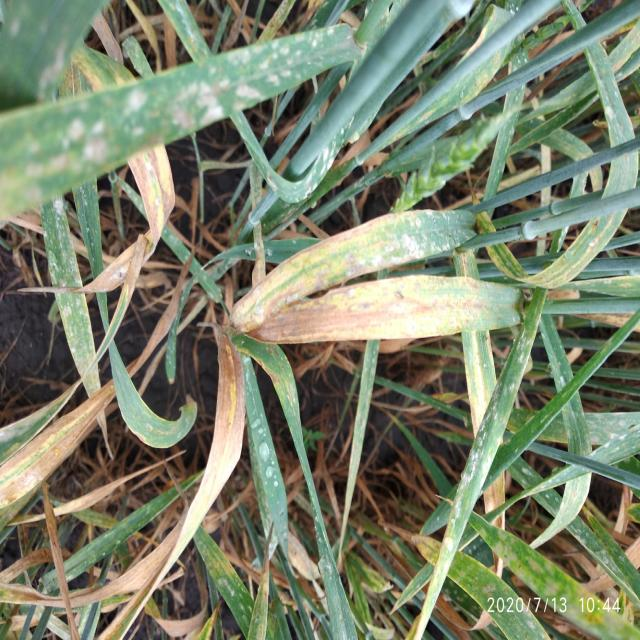wheat-powdery-mildew: (0, 23, 361, 195), (405, 326, 526, 640), (242, 356, 289, 544)
